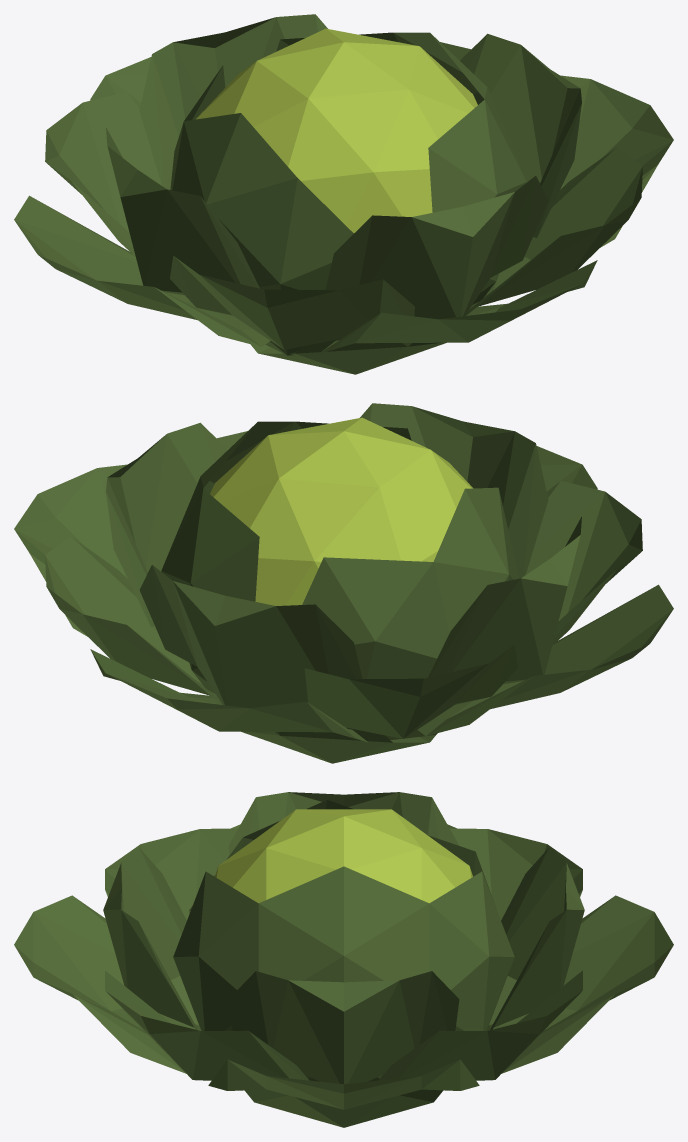
File: harvest.fbx
3 renders of one model, top to bottom at view 1: azimuth 30°, elevation 25°; view 2: azimuth 150°, elevation 25°; view 3: azimuth 270°, elevation 25°, orthographic. The views are drawn at different scales.
Parts seen in each view (by area): view 1: harvest; view 2: harvest; view 3: harvest.
Boxes of the visible parts, x1=… form: harvest: x1=14, y1=14, x2=673, y2=374; harvest: x1=14, y1=403, x2=673, y2=763; harvest: x1=14, y1=792, x2=673, y2=1127.
Bounding box in the file's own units: 425 × 204 × 425.
